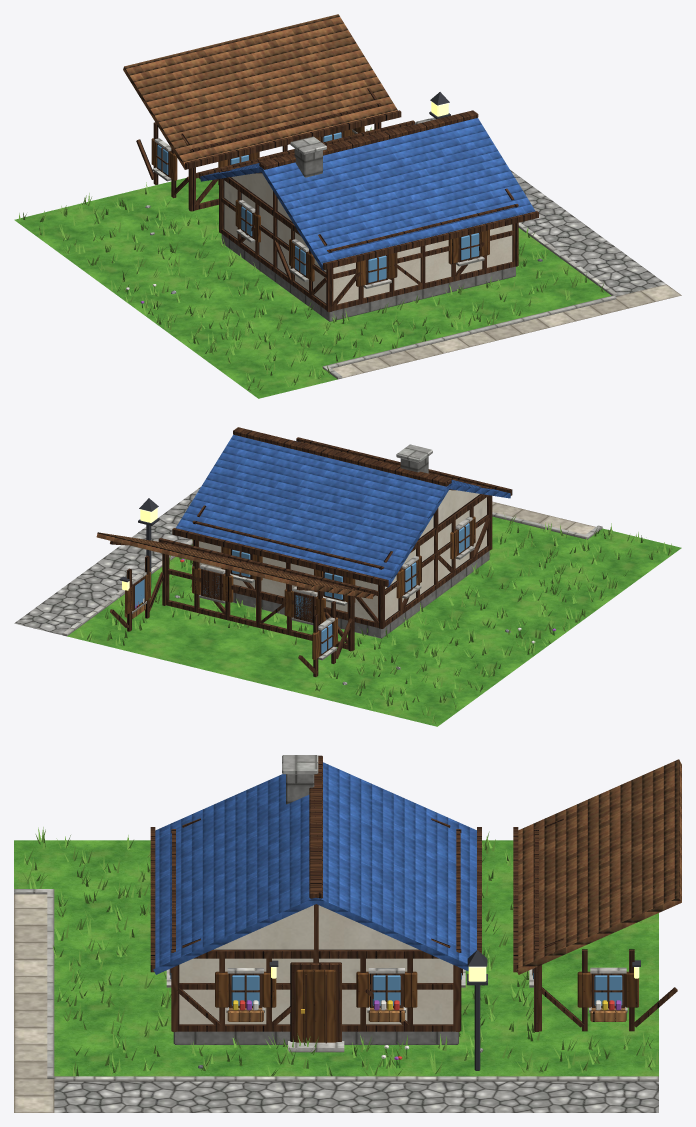
Rendered from chunk_1_7.glb.
3 views of the same model, one above another, from view 1: azimuth 30°, elevation 25°; view 2: azimuth 150°, elevation 25°; view 3: azimuth 270°, elevation 25° (orthographic). The views are drawn at different scales.
Visible parts, largest first — view 1: chunk_1_7; view 2: chunk_1_7; view 3: chunk_1_7.
Part boxes in pixels (x1,y1,x2,y2): chunk_1_7: (14, 14, 681, 398); chunk_1_7: (14, 427, 681, 726); chunk_1_7: (14, 755, 681, 1112).
Bounding box in the file's own units: 16.12 × 4.99 × 16.57.
Materials: 24 (15 with a texture image).
